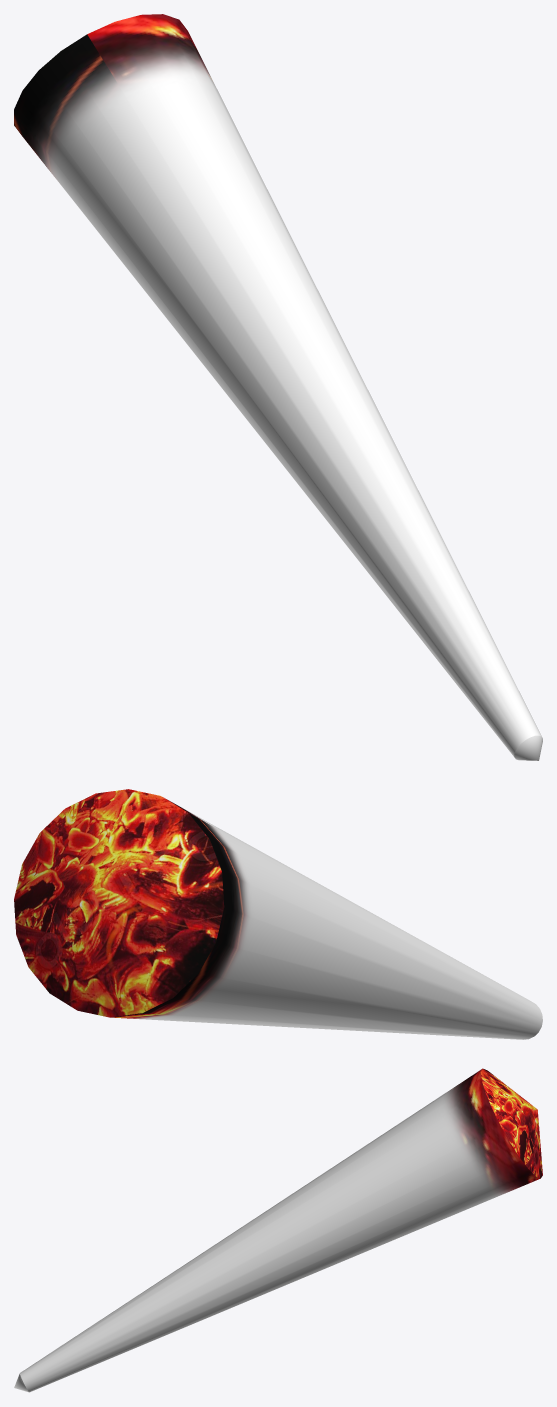
Rendered from Joint Perk.fbx.
The picture shows the model from 3 angles, top to bottom: view 1: azimuth 30°, elevation 25°; view 2: azimuth 150°, elevation 25°; view 3: azimuth 270°, elevation 25°; orthographic projection. The views are drawn at different scales.
Parts seen in each view (by area): view 1: Joint_Perk; view 2: Joint_Perk; view 3: Joint_Perk.
Boxes of the visible parts, x1,y1,x2,y2 form: Joint_Perk: [14, 14, 542, 760]; Joint_Perk: [14, 789, 542, 1039]; Joint_Perk: [14, 1068, 542, 1392].
Bounding box in the file's own units: 2.38 × 6.47 × 10.18.
